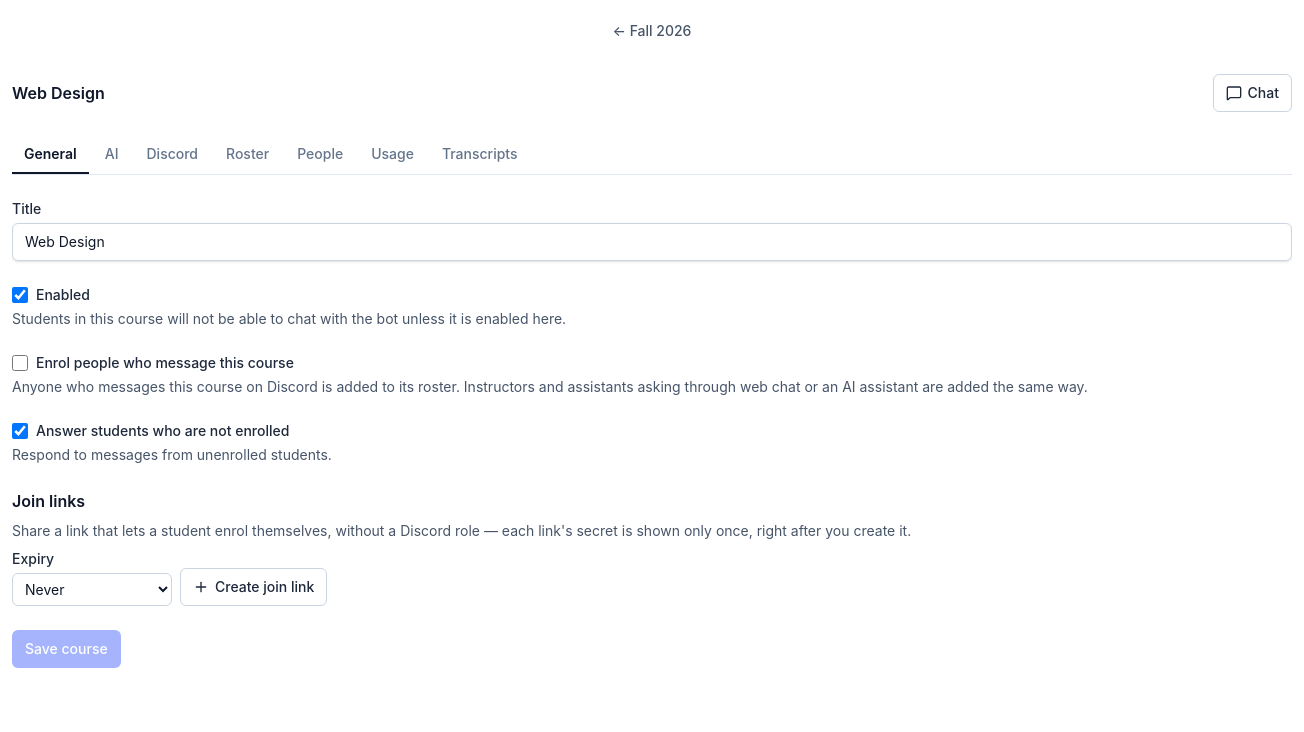
it: CourseEditor Save button reflects dirtiness (WEB-43) › shows Saved and disables the button again after a successful save
Replace the text in the field labelled "Title" with "Web Design II": {"x": 652, "y": 242} [12, 223, 1292, 261]
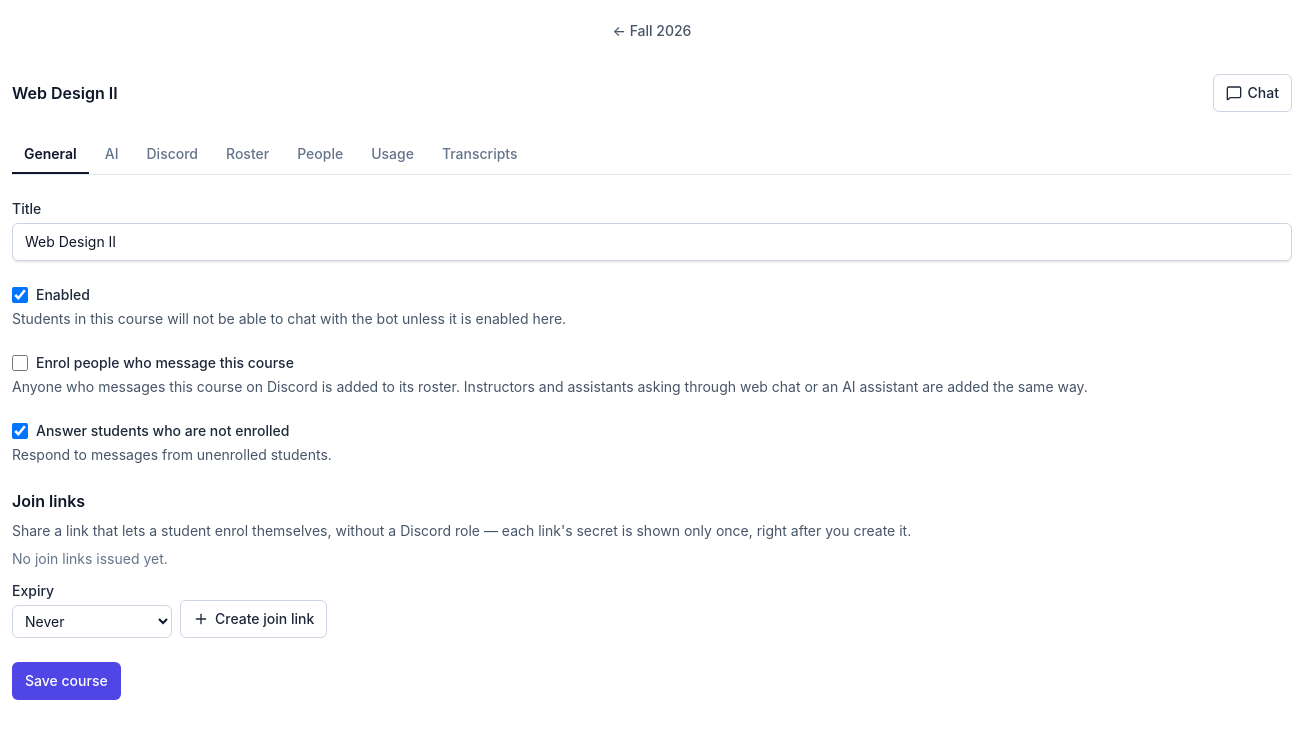
Click the button "Save course": {"x": 66, "y": 681} [12, 662, 121, 700]
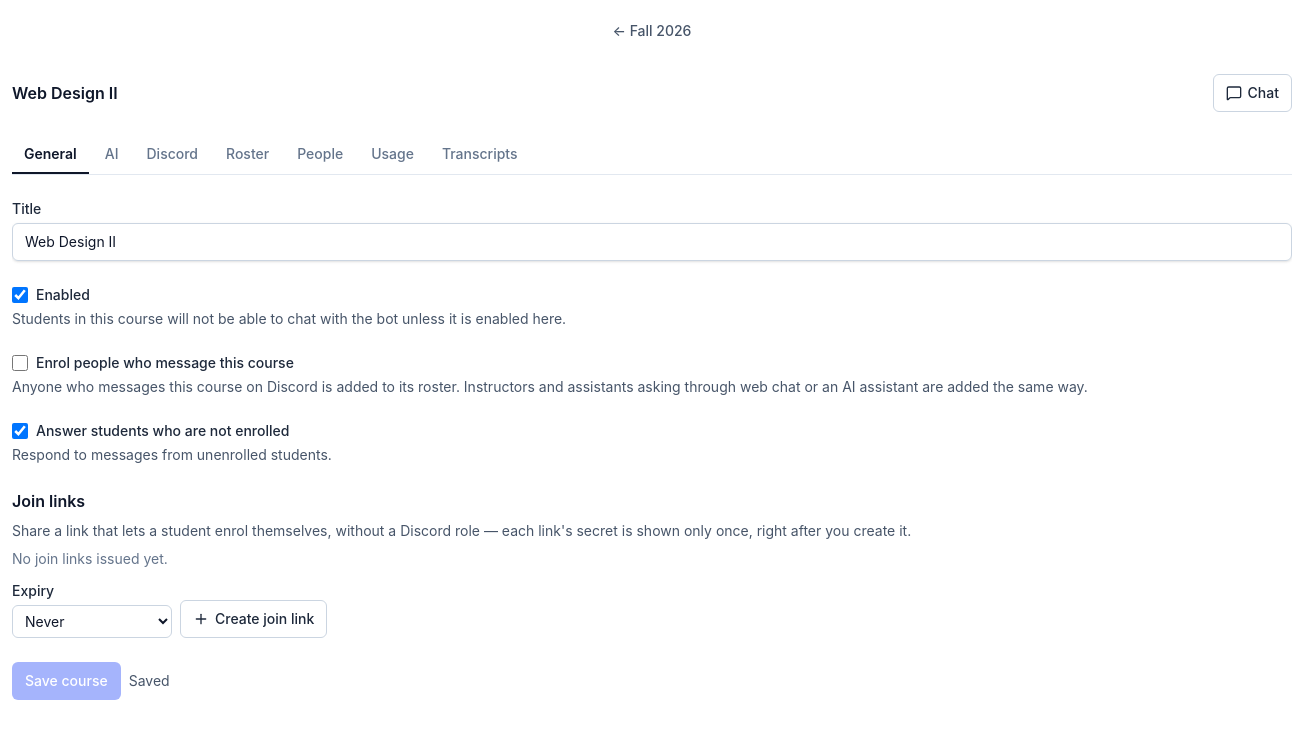
Expected: the message reads "Saved", [129, 672, 170, 689]
Expected: the button "Save course" is disabled, [12, 662, 121, 700]
